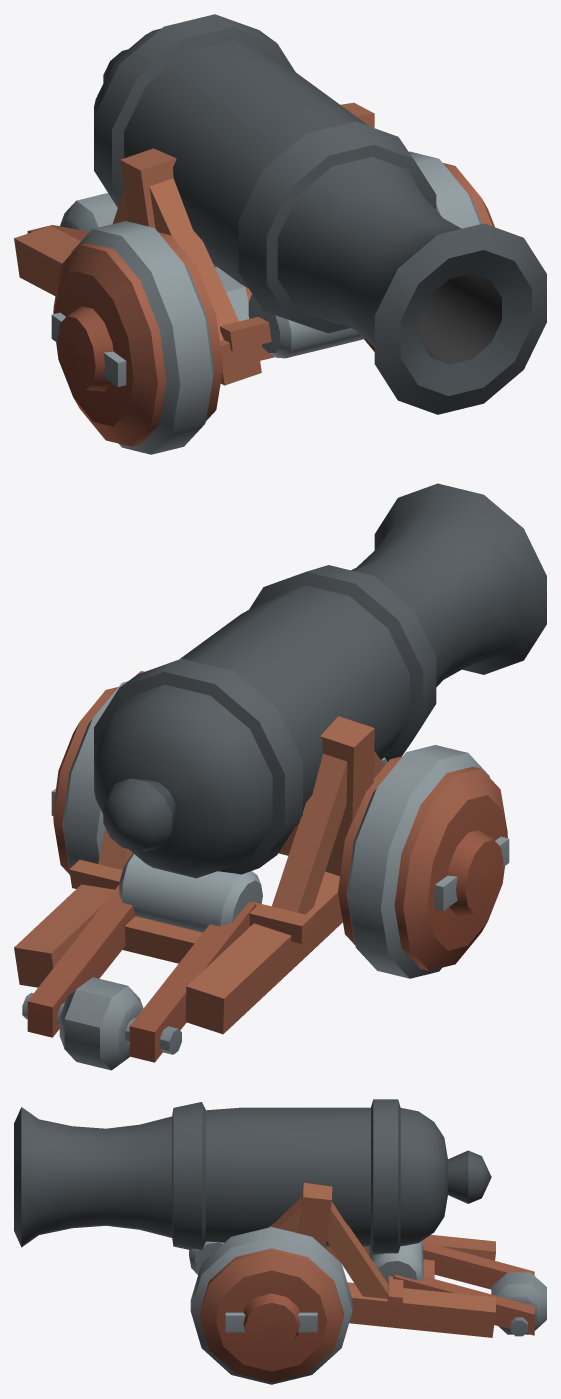
File: cannon.glb
3 views of the same model, one above another, from view 1: azimuth 30°, elevation 25°; view 2: azimuth 150°, elevation 25°; view 3: azimuth 270°, elevation 25° (orthographic). The views are drawn at different scales.
Parts seen in each view (by area): view 1: cannon, cannon_axle; view 2: cannon, cannon_axle; view 3: cannon, cannon_axle.
Boxes of the visible parts, box(x1,y1,x2,y2) form: cannon: box(14, 14, 546, 414); cannon_axle: box(51, 151, 494, 454); cannon: box(14, 483, 546, 1070); cannon_axle: box(51, 681, 509, 978); cannon: box(14, 1099, 546, 1337); cannon_axle: box(190, 1227, 352, 1384).
Bounding box in the file's own units: 0.6701 × 0.5052 × 1.09.
1 material, 1 textured.
